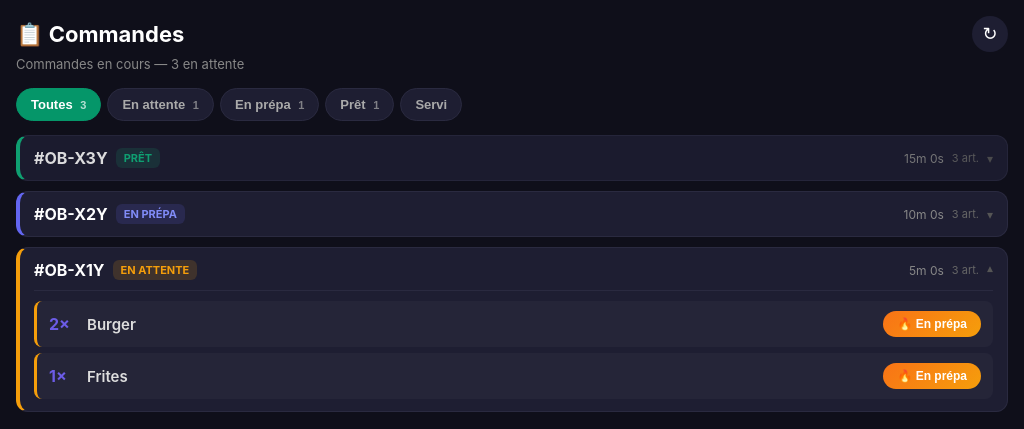
Test: OrdersList.vue › filtres › re-affiche toutes les commandes apres filtre "Toutes"
Filter to "En prépa"
Click the button with class "filter-chip" showing "En prépa 1" at (270, 104), box [220,88,319,121]
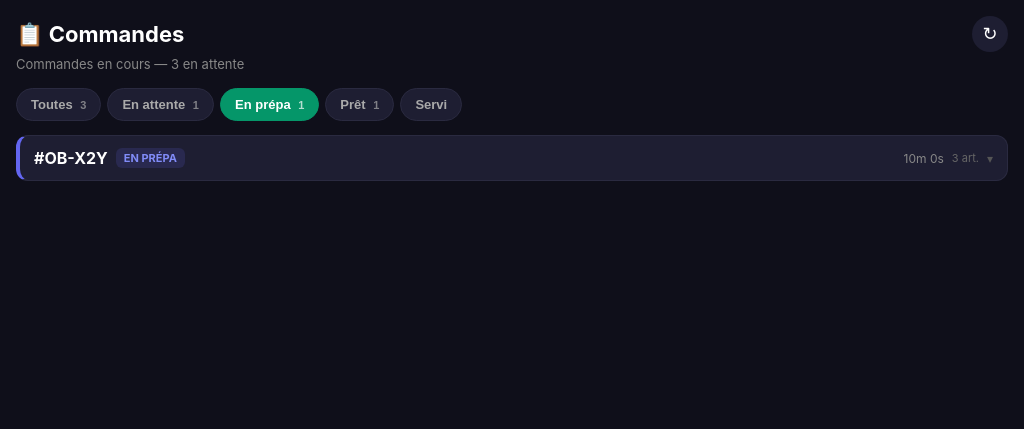
Back to "Toutes"
Click the button with class "filter-chip" showing "Toutes 3" at (59, 104), box [16,88,101,121]
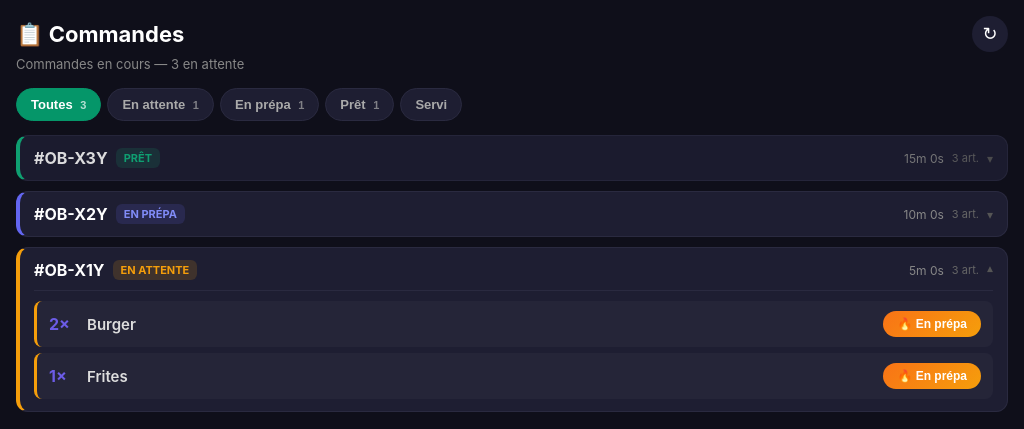
Now the number of elements with class "order-card" is 3, box [16,135,1008,181]; [16,191,1008,237]; [16,247,1008,412]
